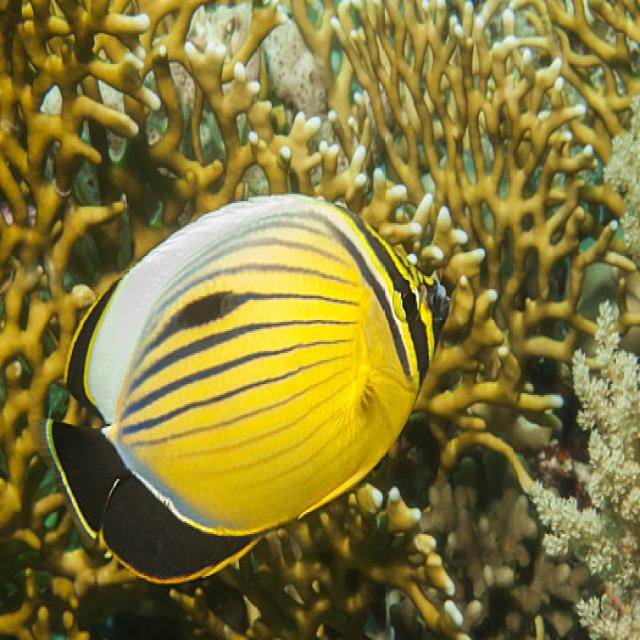ButterflyFish: (46, 198, 453, 582)
